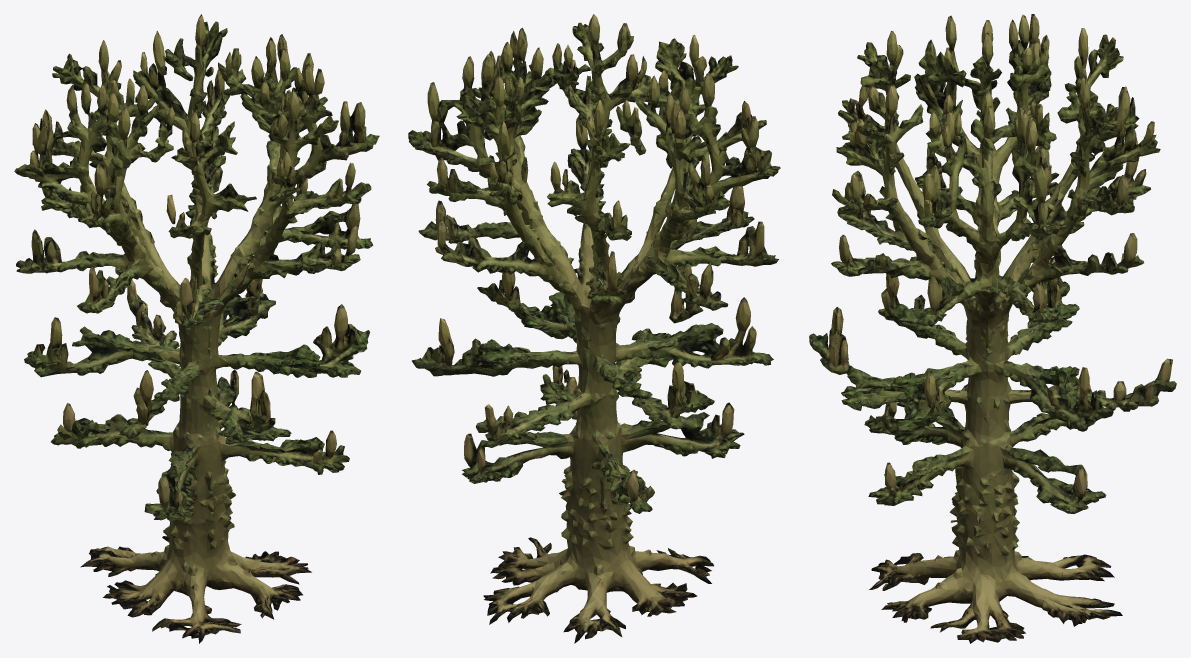
3 views of the same model, side by side, from view 1: azimuth 30°, elevation 25°; view 2: azimuth 150°, elevation 25°; view 3: azimuth 270°, elevation 25° (orthographic). The views are drawn at different scales.
Parts seen in each view (by area): view 1: world; view 2: world; view 3: world.
Part boxes in pixels (x1,y1,x2,y2): world: (14,14,379,643); world: (408,14,780,643); world: (809,14,1176,643).
Bounding box in the file's own units: 0.6156 × 0.9898 × 0.6016.
Materials: 1 (1 with a texture image).
